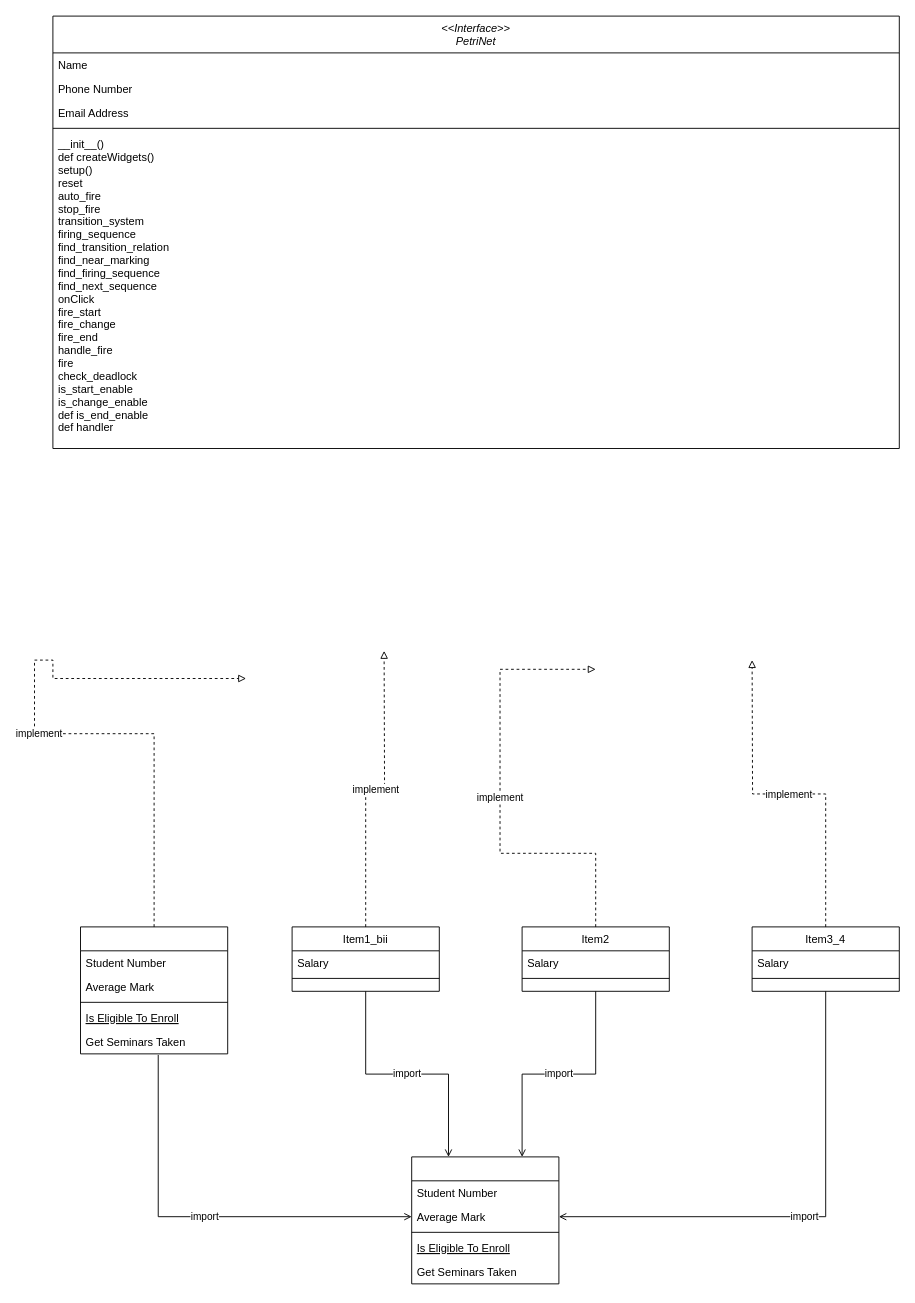
Some shapes in this 915 by 1303 pixel diagram are drawn without their labels. Here are the shapes that lost their labels. From the top down, the box of each, then its label:
(80, 926, 228, 1054): Item1_bi
(411, 1156, 559, 1284): PetriNetLauncher
